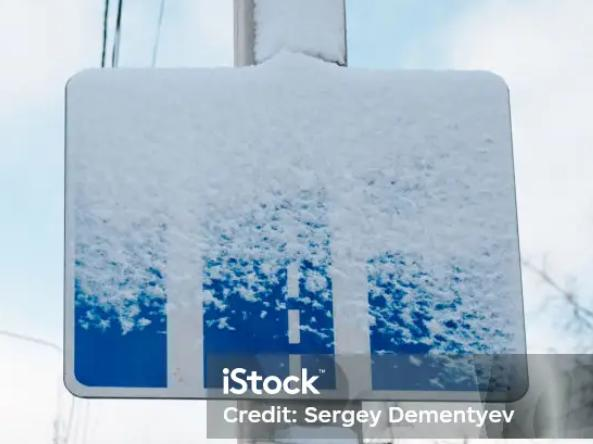obstructed_road_sign: (65, 61, 525, 402)
